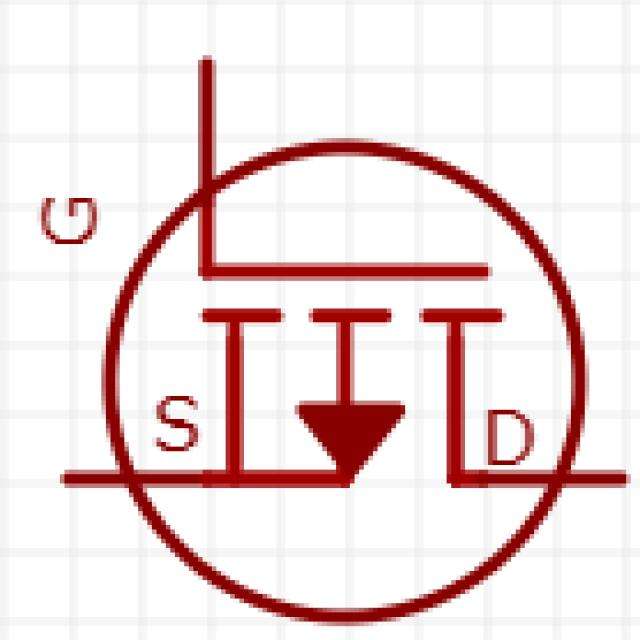pmos: (4, 60, 636, 640)
